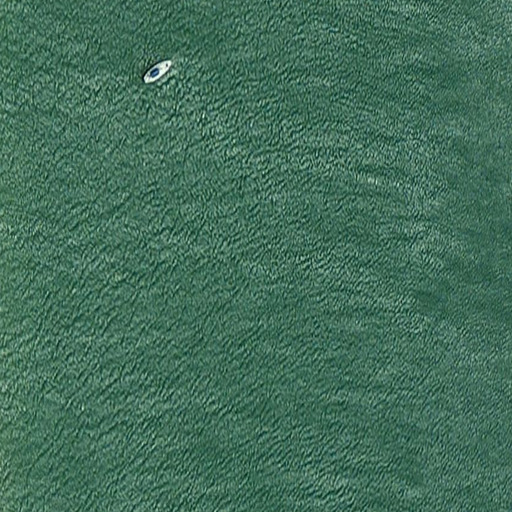ship: (141, 56, 174, 87)
